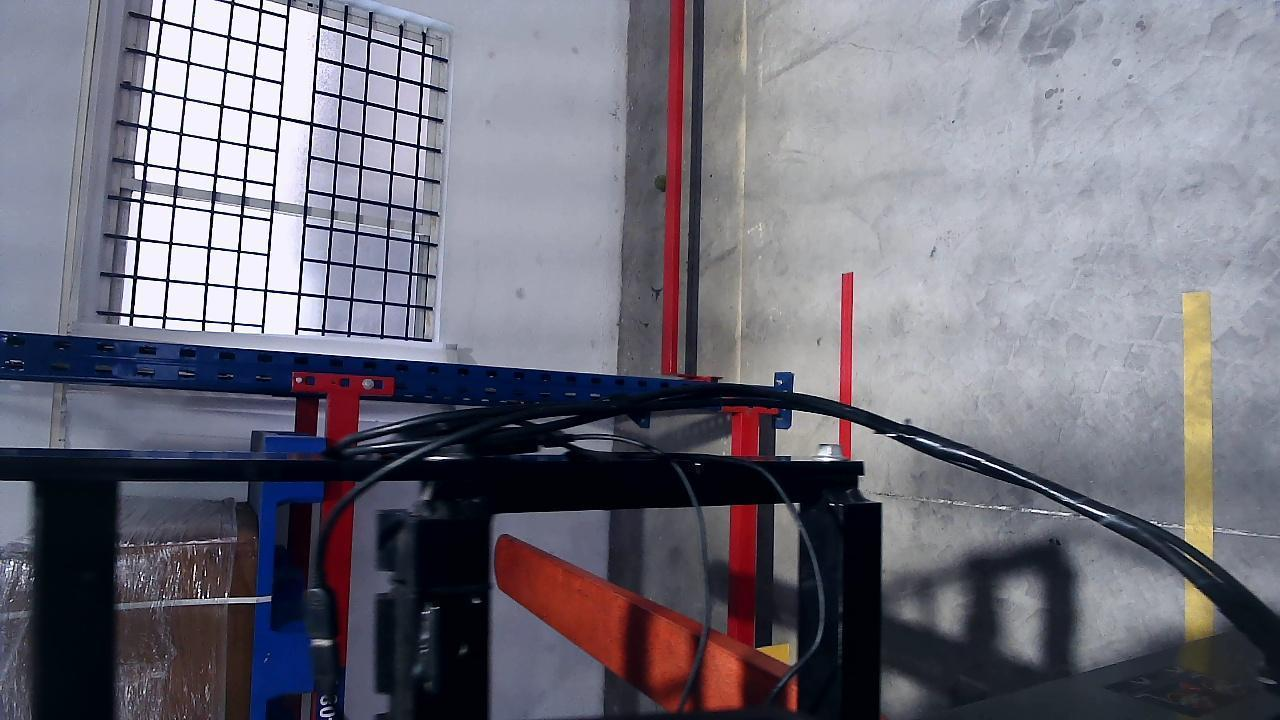red_line: (838, 272, 854, 454)
yellow_line: (1182, 291, 1215, 638)
